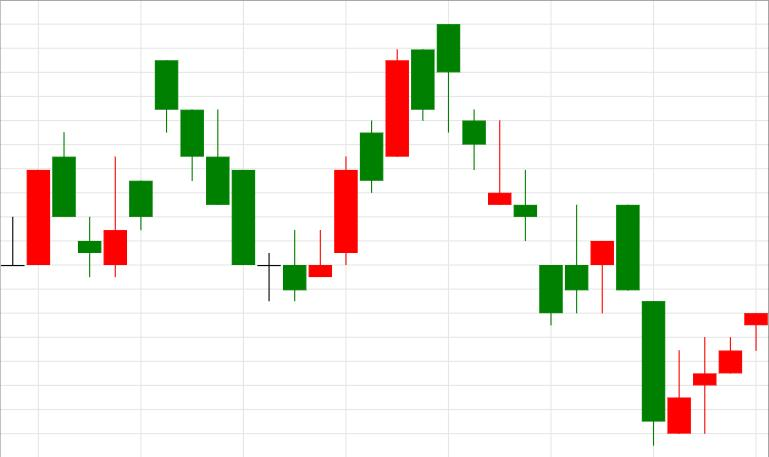hanging_man_fall: (309, 24, 460, 278)
inverse_hammer_rise: (155, 61, 306, 304)
